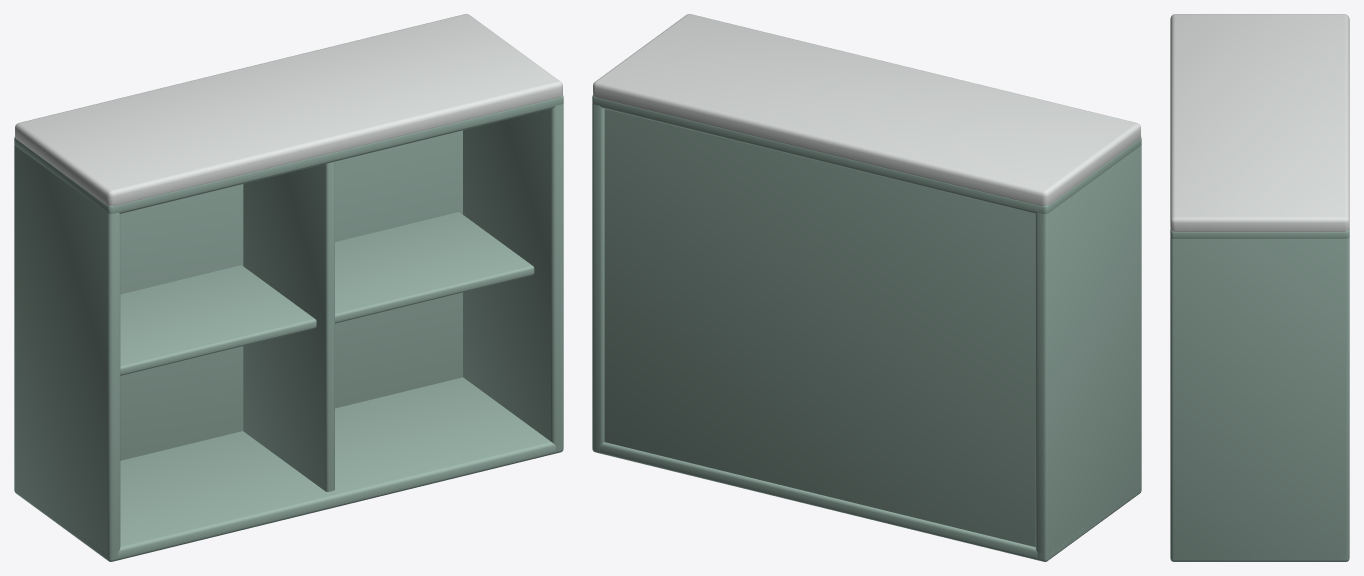
The model's file is open-wall-cabinet.glb.
The picture shows the model from 3 angles, left to right: view 1: azimuth 30°, elevation 25°; view 2: azimuth 150°, elevation 25°; view 3: azimuth 270°, elevation 25°; orthographic projection. The views are drawn at different scales.
Parts seen in each view (by area): view 1: catalog_surface_RealismUV, catalog_surface_UVMap; view 2: catalog_surface_RealismUV, catalog_surface_UVMap; view 3: catalog_surface_RealismUV, catalog_surface_UVMap.
Part boxes in pixels (bbox=[...]): catalog_surface_RealismUV: bbox=[14, 95, 563, 561]; catalog_surface_UVMap: bbox=[15, 14, 562, 206]; catalog_surface_RealismUV: bbox=[592, 95, 1141, 561]; catalog_surface_UVMap: bbox=[593, 14, 1140, 206]; catalog_surface_RealismUV: bbox=[1170, 229, 1349, 561]; catalog_surface_UVMap: bbox=[1170, 14, 1349, 231].
Size of the model in its own units: 0.9 by 0.7 by 0.33.
